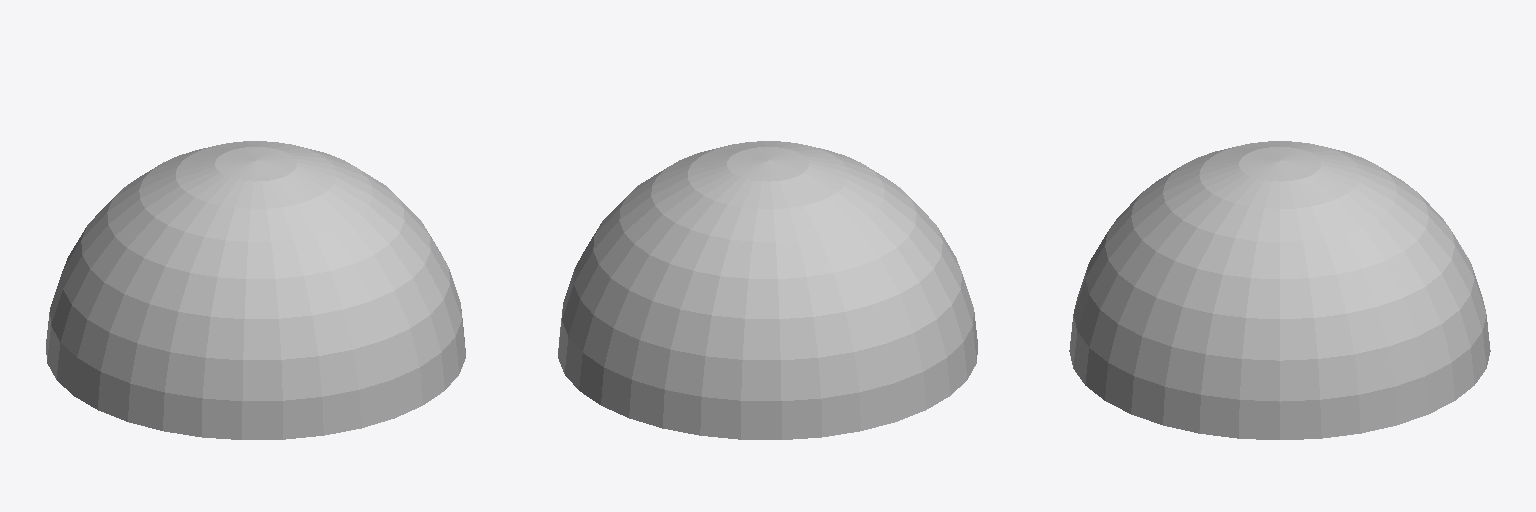
Rendered from LaserBase.obj.
The picture shows the model from 3 angles: view 1: azimuth 30°, elevation 25°; view 2: azimuth 150°, elevation 25°; view 3: azimuth 270°, elevation 25°; orthographic projection.
Visible parts, largest first — view 1: Sphere; view 2: Sphere; view 3: Sphere.
Boxes of the visible parts, <box> form: Sphere: <box>46,141,465,439</box>; Sphere: <box>558,141,977,439</box>; Sphere: <box>1069,141,1490,439</box>.
Bounding box in the file's own units: 1.61 × 0.803 × 1.61.